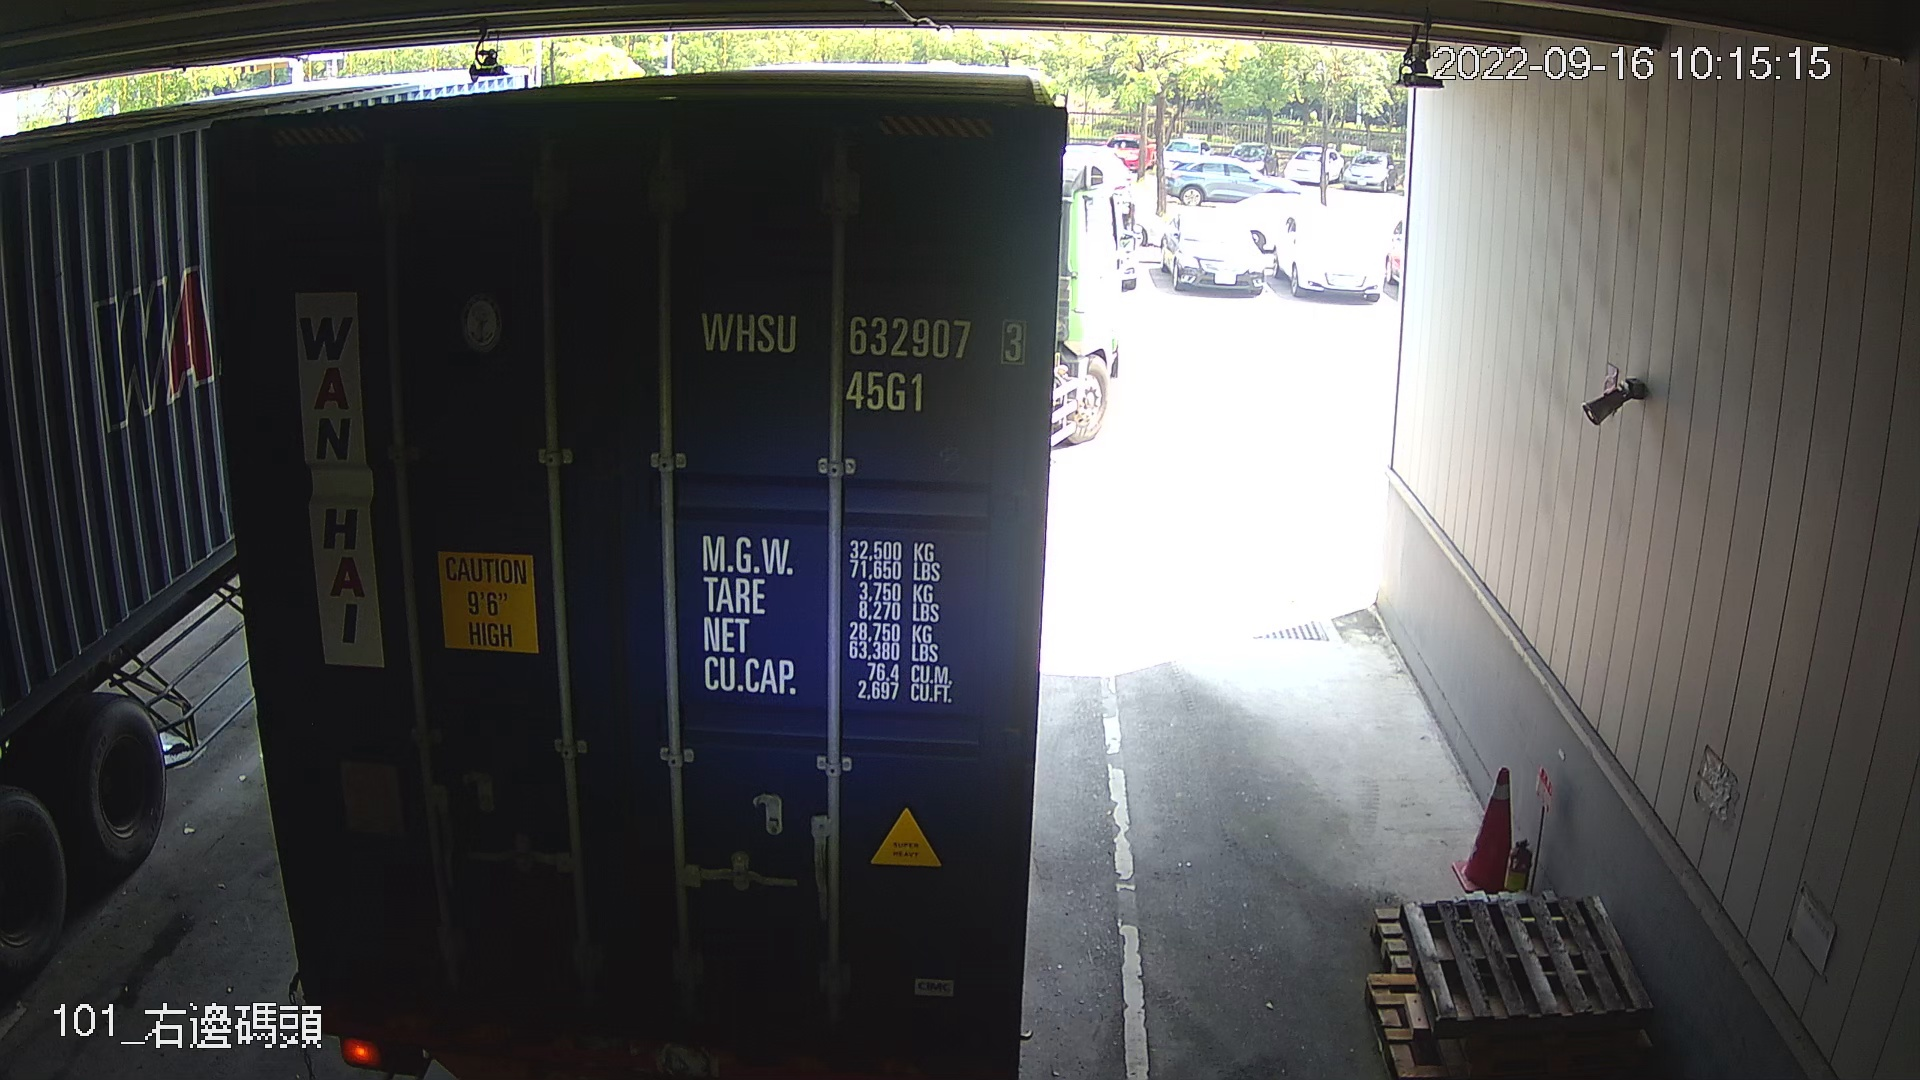container: (680, 294, 1034, 417)
